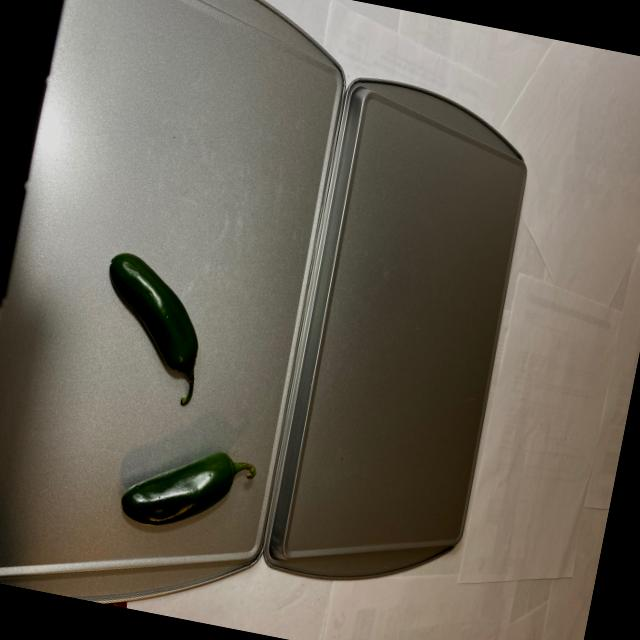chilli: (50, 239, 301, 557)
